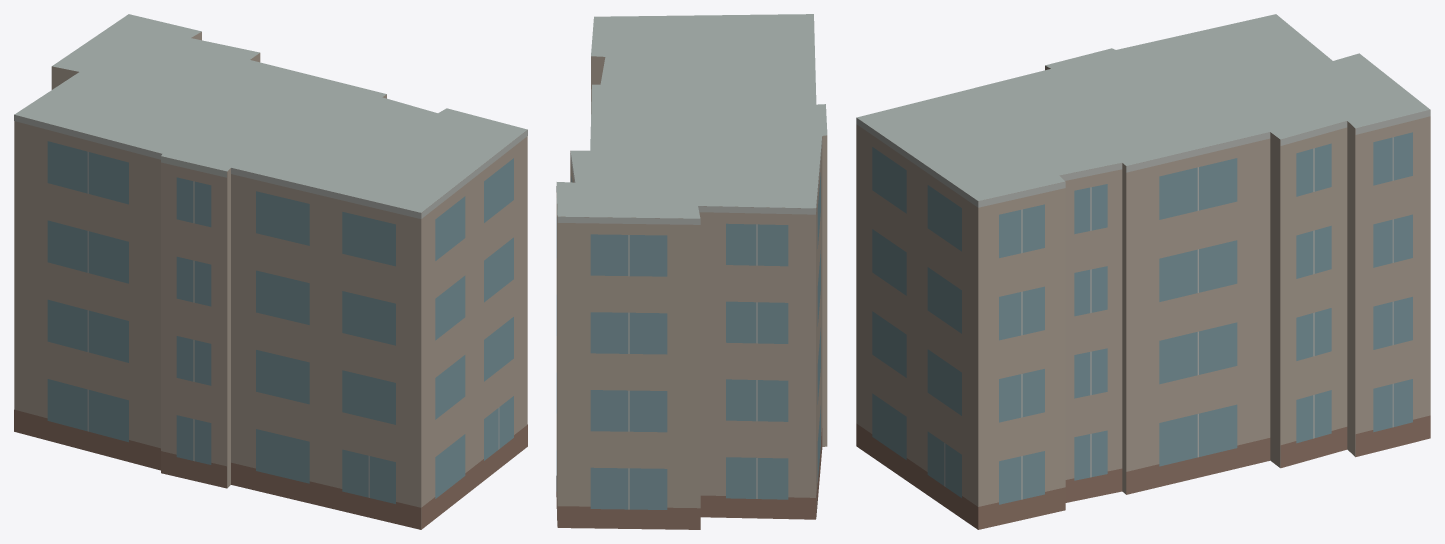
File: survey-upis-32695568.glb
The picture shows the model from 3 angles, left to right: view 1: azimuth 30°, elevation 25°; view 2: azimuth 150°, elevation 25°; view 3: azimuth 270°, elevation 25°; orthographic projection. The views are drawn at different scales.
Visible parts, largest first — view 1: survey-upis-32695568.tmp; view 2: survey-upis-32695568.tmp; view 3: survey-upis-32695568.tmp.
Boxes of the visible parts, bbox=[...] form: survey-upis-32695568.tmp: bbox=[14, 14, 527, 529]; survey-upis-32695568.tmp: bbox=[556, 14, 827, 529]; survey-upis-32695568.tmp: bbox=[856, 14, 1430, 529].
Bounding box in the file's own units: 14.91 × 12.2 × 19.32.
